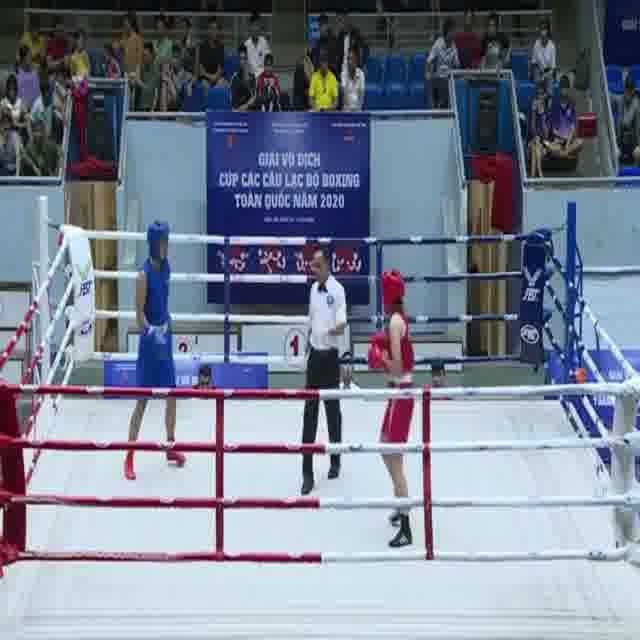blue-player: (121, 218, 189, 485)
red-player: (364, 266, 417, 550)
referee: (298, 246, 350, 498)
